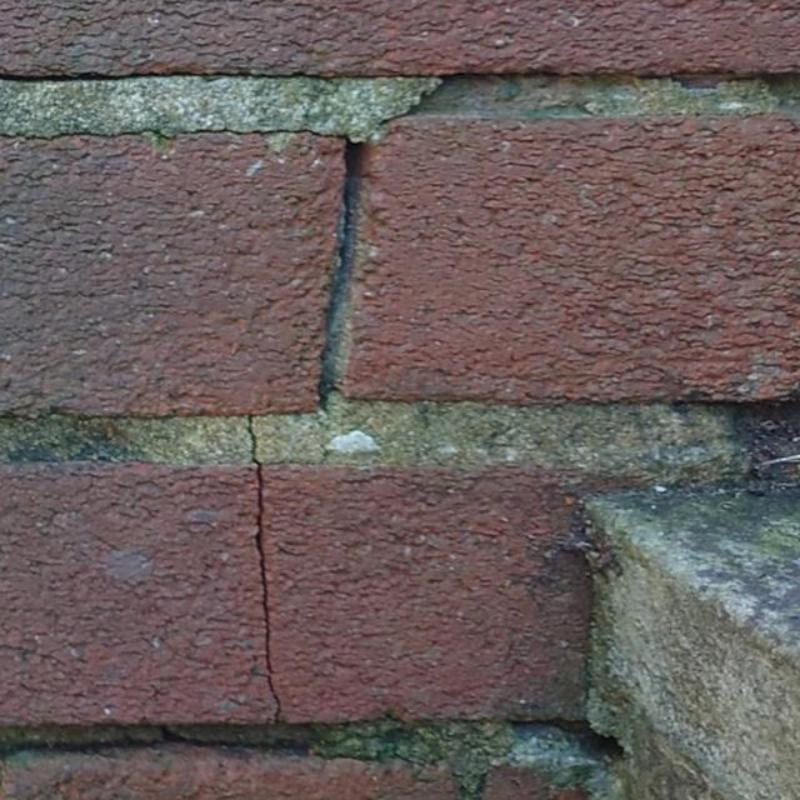crack: (0, 726, 381, 762), (319, 141, 364, 404), (245, 414, 281, 721), (0, 127, 350, 142), (0, 71, 444, 81)
